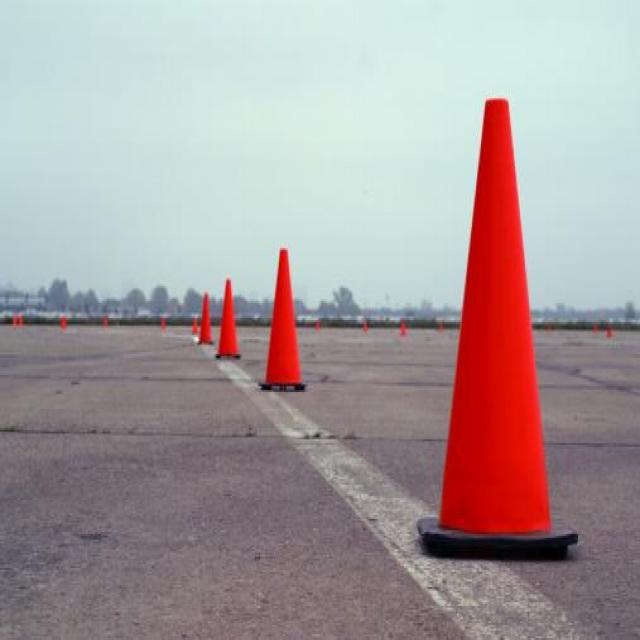Cone: (429, 97, 563, 549), (265, 250, 304, 386), (221, 278, 238, 358), (200, 292, 210, 342)
